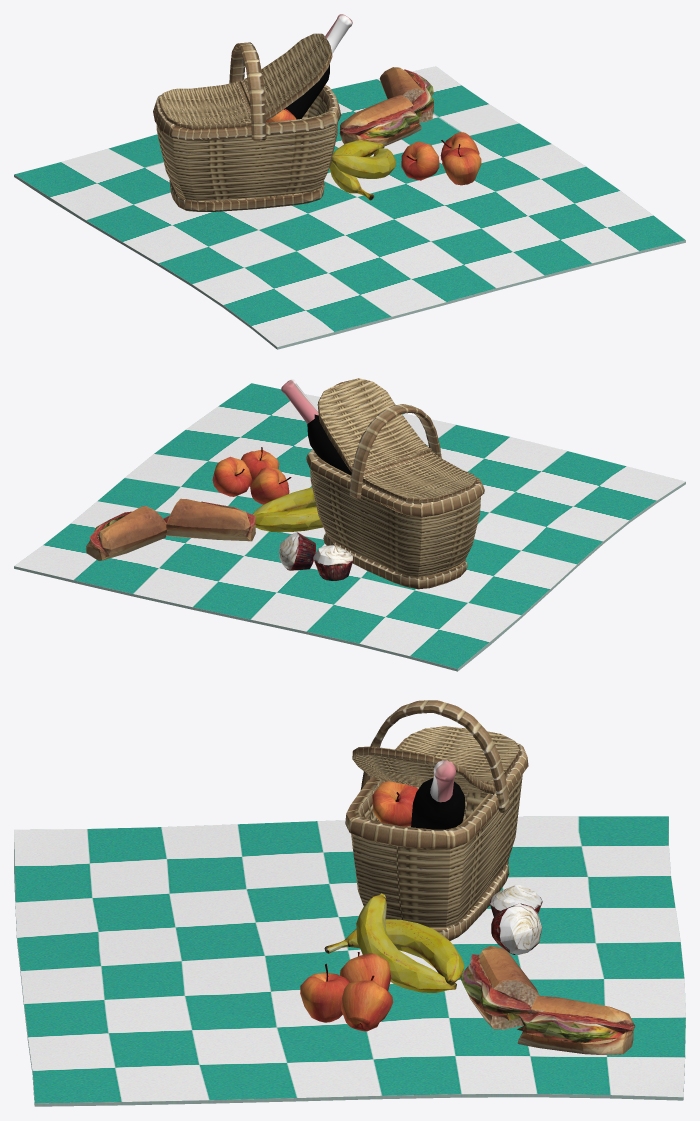
File: All_element03.gltf
3 views of the same model, one above another, from view 1: azimuth 30°, elevation 25°; view 2: azimuth 150°, elevation 25°; view 3: azimuth 270°, elevation 25° (orthographic). The views are drawn at different scales.
Visible parts, largest first — view 1: Farbric, polySurface19, polySurface22, polySurface16, Sub Sandwich, polySurface23, Sub Sandwich1, Banana, polySurface6, Banana001, polySurface24, polySurface26 (+1 smaller); view 2: Farbric, polySurface19, polySurface22, polySurface16, Sub Sandwich, Sub Sandwich1, polySurface23, polySurface6, Banana001, polySurface27, Spice Cupcake1, Spice Cupcake2 (+3 smaller); view 3: Farbric, polySurface19, Sub Sandwich1, Sub Sandwich, polySurface16, Banana, polySurface22, Banana001, polySurface23, polySurface6, polySurface27, Spice Cupcake1 (+4 smaller).
Part boxes in pixels (left/top/right/bottom): Farbric: left=14, top=66, right=685, bottom=349; polySurface19: left=153, top=84, right=341, bottom=211; polySurface22: left=240, top=33, right=332, bottom=120; polySurface16: left=158, top=80, right=251, bottom=129; Sub Sandwich: left=339, top=95, right=421, bottom=146; polySurface23: left=229, top=42, right=266, bottom=140; Sub Sandwich1: left=379, top=67, right=433, bottom=122; Banana: left=331, top=148, right=396, bottom=178; polySurface6: left=285, top=14, right=352, bottom=119; Banana001: left=329, top=140, right=384, bottom=200; polySurface24: left=401, top=141, right=439, bottom=180; polySurface26: left=442, top=144, right=481, bottom=185; Farbric: left=14, top=383, right=685, bottom=671; polySurface19: left=306, top=449, right=484, bottom=589; polySurface22: left=317, top=378, right=431, bottom=474; polySurface16: left=362, top=451, right=476, bottom=502; Sub Sandwich: left=163, top=498, right=255, bottom=541; Sub Sandwich1: left=86, top=506, right=167, bottom=560; polySurface23: left=349, top=404, right=441, bottom=499; polySurface6: left=281, top=379, right=351, bottom=475; Banana001: left=254, top=506, right=323, bottom=532; polySurface27: left=212, top=456, right=251, bottom=496; Spice Cupcake1: left=279, top=532, right=315, bottom=570; Spice Cupcake2: left=313, top=545, right=353, bottom=580; Farbric: left=14, top=816, right=685, bottom=1106; polySurface19: left=345, top=737, right=528, bottom=940; Sub Sandwich1: left=517, top=995, right=634, bottom=1054; Sub Sandwich: left=459, top=945, right=539, bottom=1029; polySurface16: left=398, top=726, right=520, bottom=791; Banana: left=356, top=893, right=456, bottom=992; polySurface22: left=352, top=746, right=494, bottom=794; Banana001: left=324, top=919, right=464, bottom=985; polySurface23: left=360, top=700, right=509, bottom=812; polySurface6: left=411, top=760, right=465, bottom=829; polySurface27: left=341, top=975, right=393, bottom=1031; Spice Cupcake1: left=491, top=903, right=542, bottom=954.
Size of the model in its own units: 0.3614 by 0.1289 by 0.3574.
9 materials, 8 textured.
